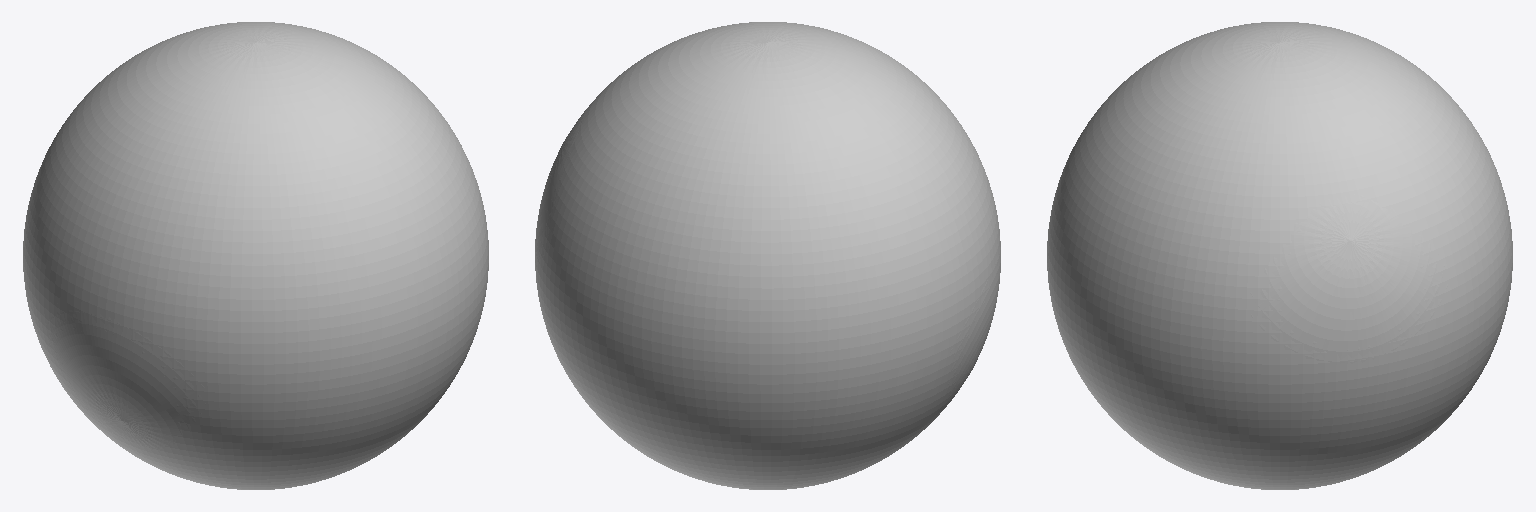
The model's file is earth4.obj.
3 views of the same model, side by side, from view 1: azimuth 30°, elevation 25°; view 2: azimuth 150°, elevation 25°; view 3: azimuth 270°, elevation 25° (orthographic).
Visible parts, largest first — view 1: atmo, clouds; view 2: atmo, clouds; view 3: atmo, clouds.
Boxes of the visible parts, x1=… form: atmo: x1=23, y1=22, x2=488, y2=489; clouds: x1=44, y1=303, x2=205, y2=450; atmo: x1=535, y1=22, x2=1000, y2=489; clouds: x1=535, y1=104, x2=1000, y2=406; atmo: x1=1047, y1=22, x2=1512, y2=489; clouds: x1=1250, y1=194, x2=1447, y2=363.
Size of the model in its own units: 19.94 by 20.15 by 19.94.